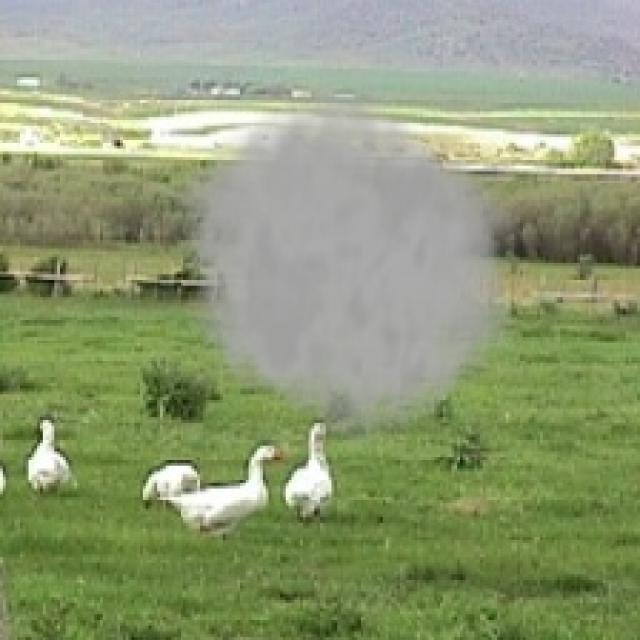Smoke: (165, 77, 520, 460)
